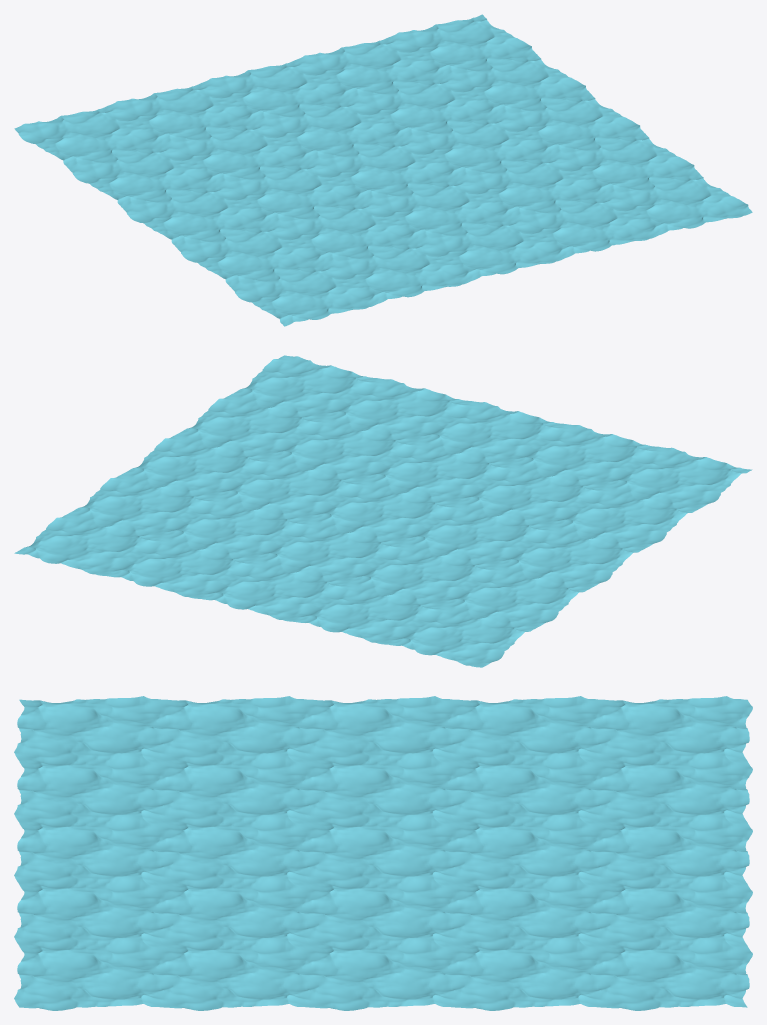
File: Ocean.fbx
3 renders of one model, top to bottom at view 1: azimuth 30°, elevation 25°; view 2: azimuth 150°, elevation 25°; view 3: azimuth 270°, elevation 25°, orthographic. The views are drawn at different scales.
Visible parts, largest first — view 1: Océan; view 2: Océan; view 3: Océan.
Part boxes in pixels (x1=…): Océan: x1=14, y1=14, x2=752, y2=326; Océan: x1=14, y1=355, x2=752, y2=667; Océan: x1=14, y1=696, x2=752, y2=1010.
Size of the model in its own units: 25420 by 227 by 25362.
